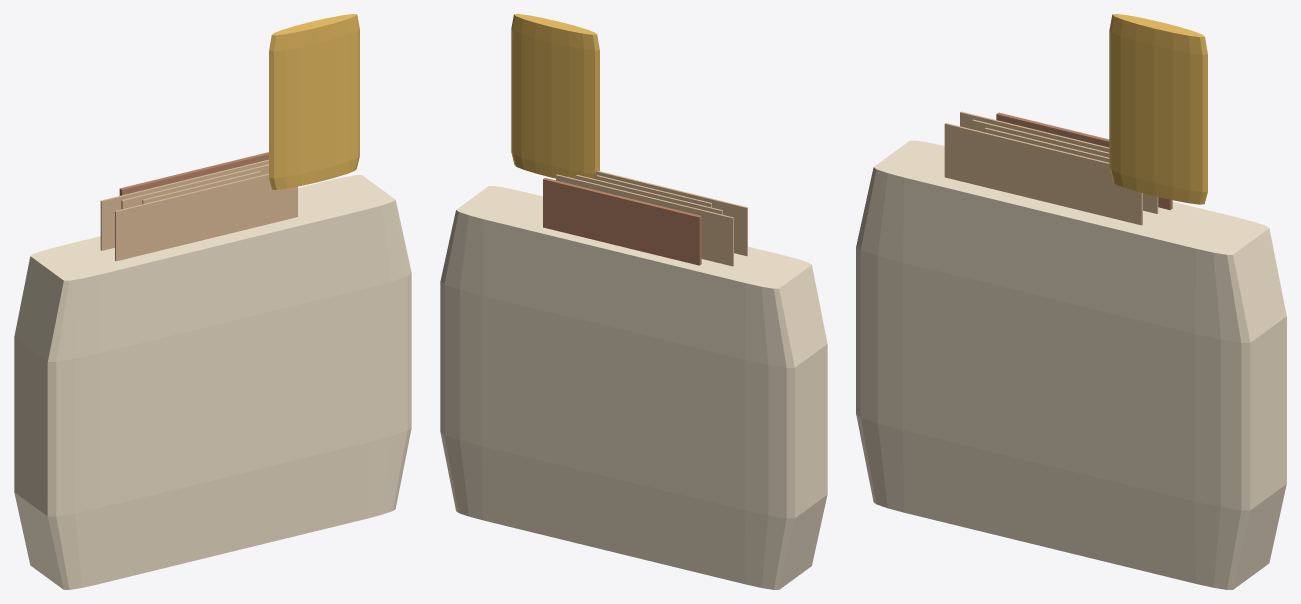
File: house_price_tag.glb
3 renders of one model, left to right at view 1: azimuth 30°, elevation 25°; view 2: azimuth 150°, elevation 25°; view 3: azimuth 330°, elevation 25°, orthographic. The views are drawn at different scales.
Parts seen in each view (by area): view 1: model; view 2: model; view 3: model.
Part boxes in pixels (x1,y1,x2,y2): model: (14, 14, 411, 589); model: (440, 14, 827, 589); model: (856, 14, 1286, 589).
Bounding box in the file's own units: 0.65 × 0.85 × 0.13.
